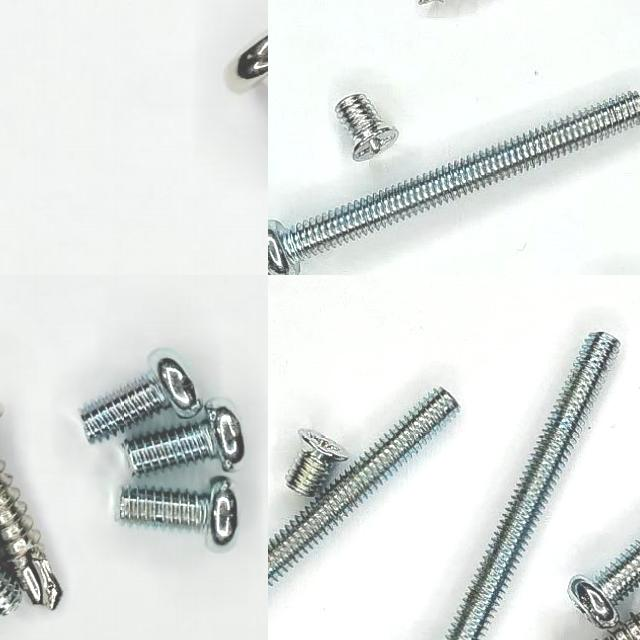Screw: (268, 92, 640, 275), (446, 333, 620, 640), (268, 387, 459, 589), (81, 350, 203, 444), (0, 461, 63, 611), (123, 407, 246, 475), (120, 480, 238, 545), (569, 540, 640, 629), (334, 93, 398, 161), (286, 429, 348, 497)
